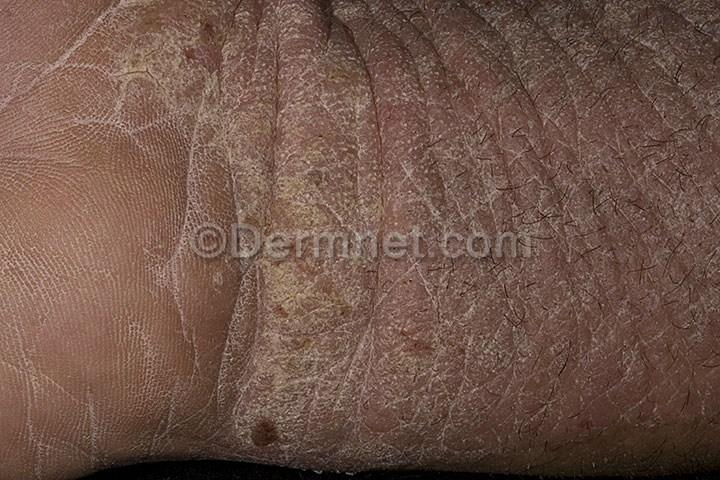Eczema: (348, 0, 696, 233), (105, 264, 362, 465), (107, 0, 353, 202), (365, 278, 563, 468), (568, 235, 720, 459)
